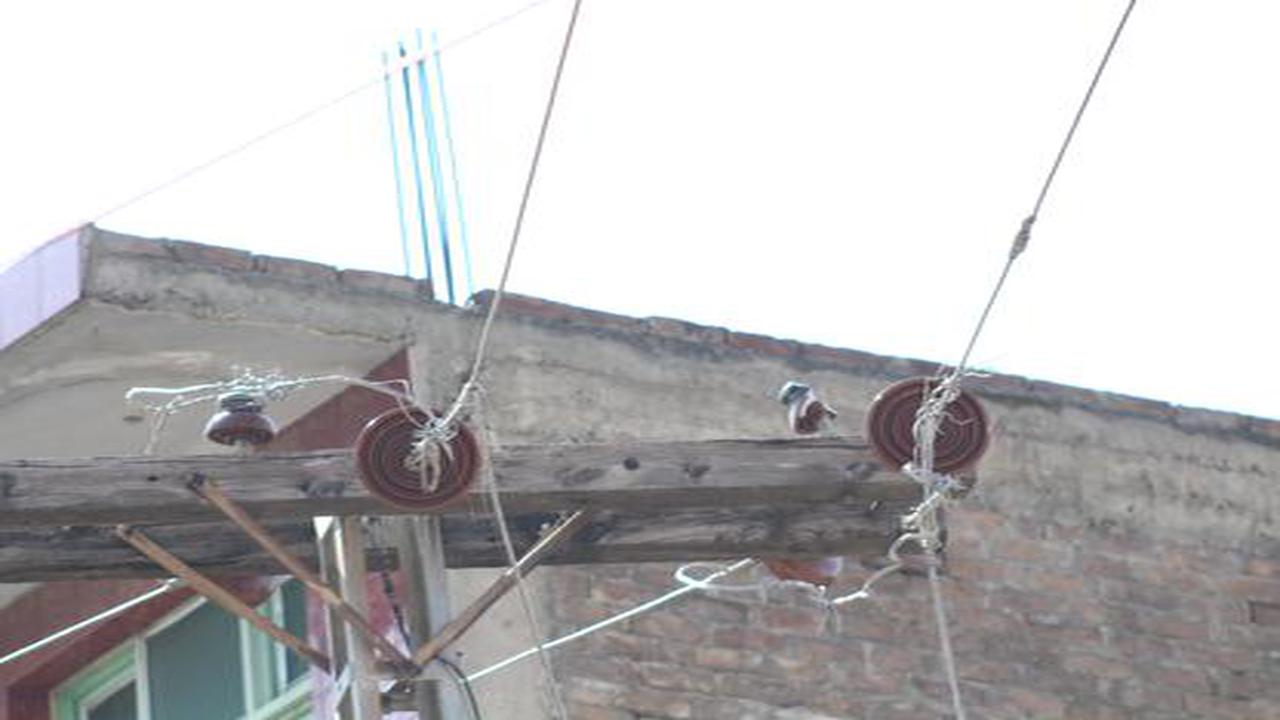defect_pin: (775, 374, 844, 440)
insulator_disc: (351, 403, 487, 518), (862, 370, 997, 483)
insulator_pin: (201, 386, 285, 453)
